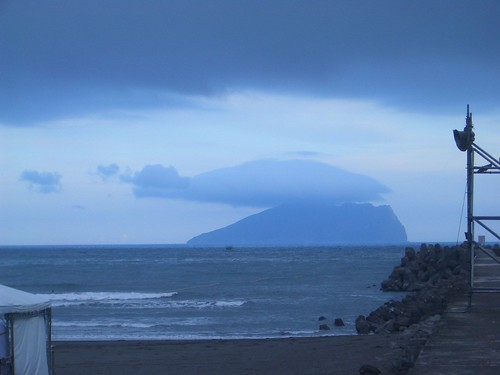turtleIsland: (185, 195, 405, 242)
